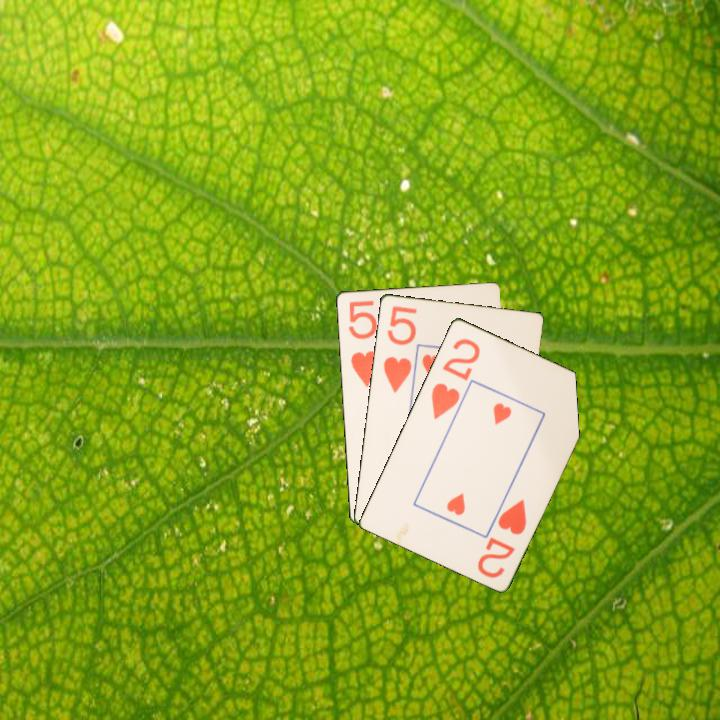2h: (427, 334, 483, 422), (474, 495, 529, 581)
5h: (380, 302, 420, 395), (344, 297, 381, 390)
